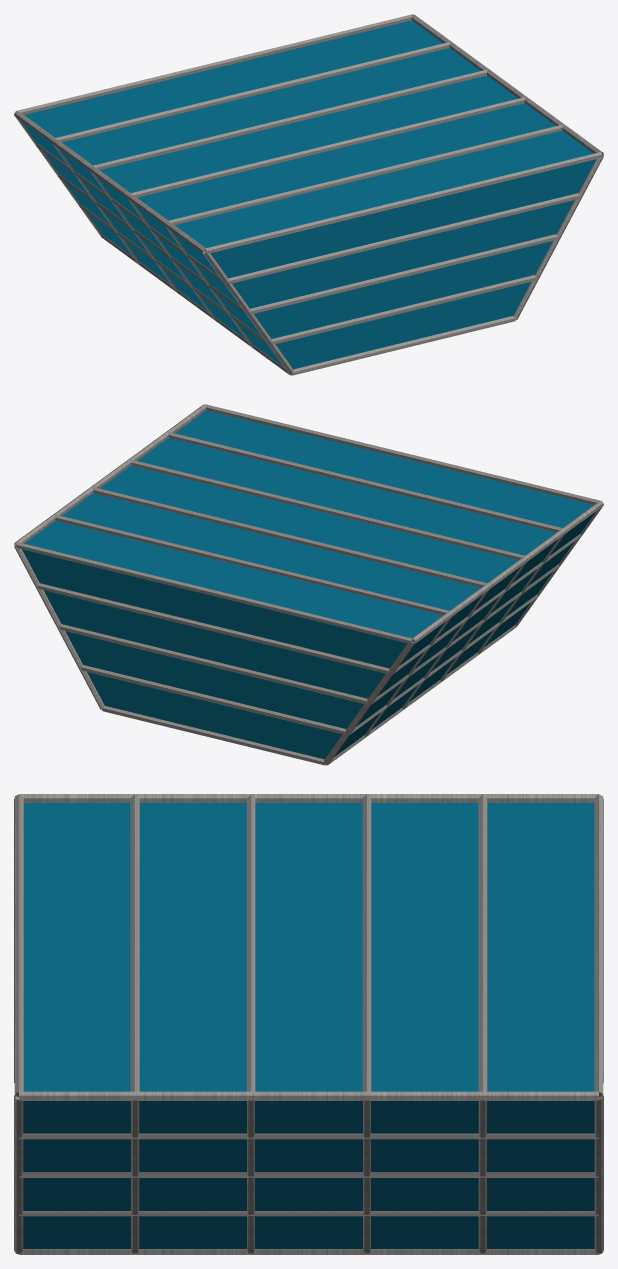
File: edificio1.FBX
3 views of the same model, one above another, from view 1: azimuth 30°, elevation 25°; view 2: azimuth 150°, elevation 25°; view 3: azimuth 270°, elevation 25° (orthographic). The views are drawn at different scales.
Parts seen in each view (by area): view 1: Box001, Box002; view 2: Box001, Box002; view 3: Box001, Box002.
Boxes of the visible parts, left/top/right/bottom form: Box001: left=21, top=20, right=595, bottom=374; Box002: left=14, top=14, right=603, bottom=375; Box001: left=22, top=410, right=596, bottom=764; Box002: left=14, top=404, right=603, bottom=765; Box001: left=23, top=803, right=594, bottom=1249; Box002: left=14, top=794, right=603, bottom=1254.
Bounding box in the file's own units: 83.23 × 29.44 × 68.89.
Materials: 2 (2 with a texture image).
